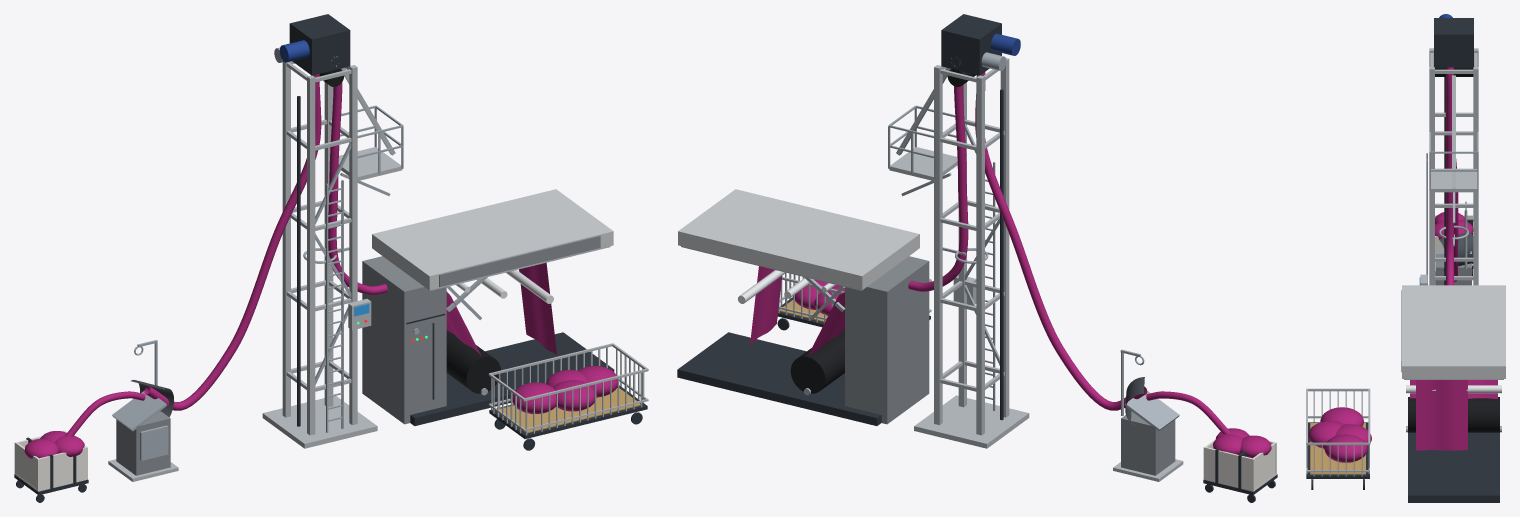
The model's file is halat-acma.glb.
3 renders of one model, left to right at view 1: azimuth 30°, elevation 25°; view 2: azimuth 150°, elevation 25°; view 3: azimuth 270°, elevation 25°, orthographic. The views are drawn at different scales.
Parts seen in each view (by area): view 1: Asset; view 2: Asset; view 3: Asset.
Boxes of the visible parts, x1,y1,x2,y2 form: Asset: [14, 14, 648, 502]; Asset: [677, 14, 1277, 502]; Asset: [1306, 14, 1505, 502].
Size of the model in its own units: 14.7 by 9.9 by 5.
